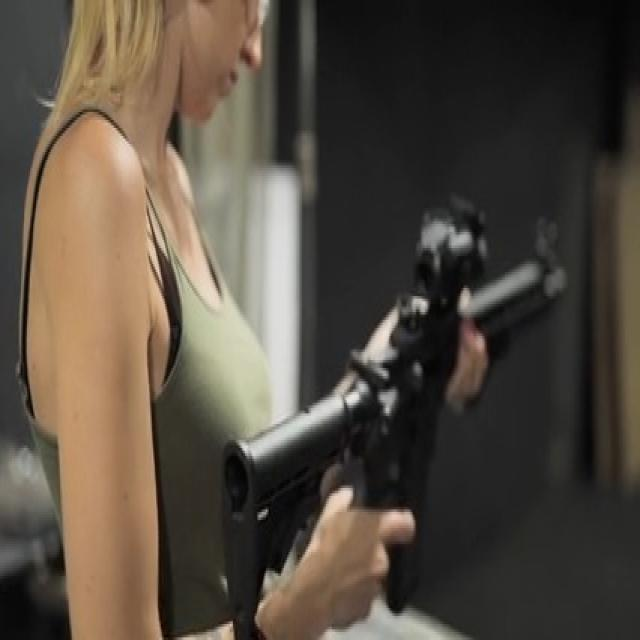Gun_Holder: (210, 210, 638, 640)
Person: (16, 0, 418, 635)
